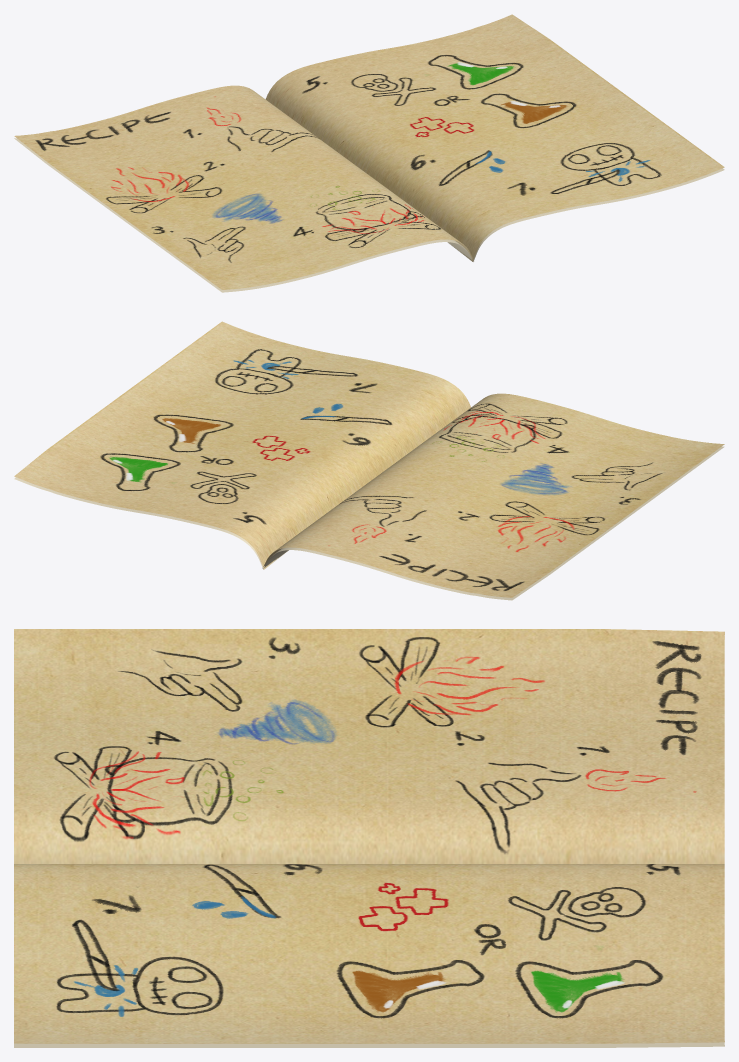
Rendered from test-page.fbx.
3 views of the same model, one above another, from view 1: azimuth 30°, elevation 25°; view 2: azimuth 150°, elevation 25°; view 3: azimuth 270°, elevation 25° (orthographic). The views are drawn at different scales.
Visible parts, largest first — view 1: page_top_right, page_top_left, page_top_left_2, page_top_right_2; view 2: page_top_right, page_top_left, page_top_left_2, page_top_right_2; view 3: page_top_left, page_top_right, page_top_right_2.
Part boxes in pixels (x1,y1,x2,y2): page_top_right: (265,14,724,261); page_top_left: (14,85,473,289); page_top_left_2: (14,138,473,292); page_top_right_2: (451,168,724,261); page_top_right: (14,321,470,569); page_top_left: (262,393,724,597); page_top_left_2: (263,446,724,600); page_top_right_2: (14,477,287,569); page_top_left: (14,629,724,863); page_top_right: (14,864,724,1043); page_top_right_2: (14,1042,724,1047).
Size of the model in its own units: 94.66 by 6.05 by 68.6.
